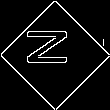N_E: (30, 35, 80, 75)
